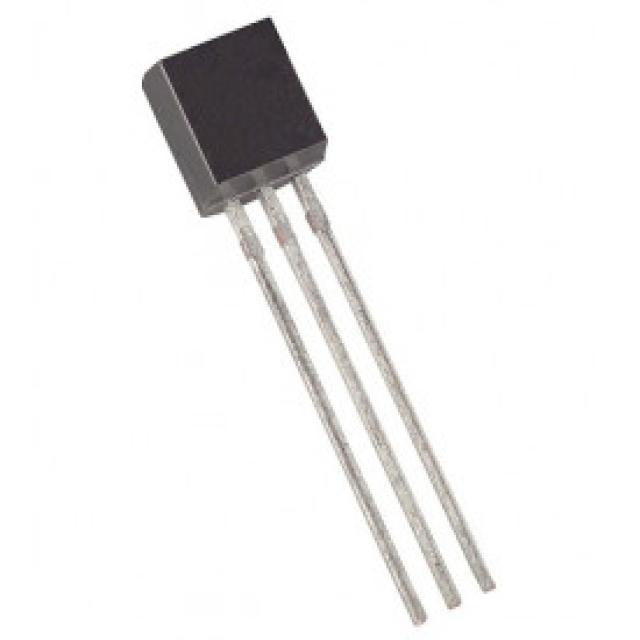Transistor: (141, 21, 492, 620)
